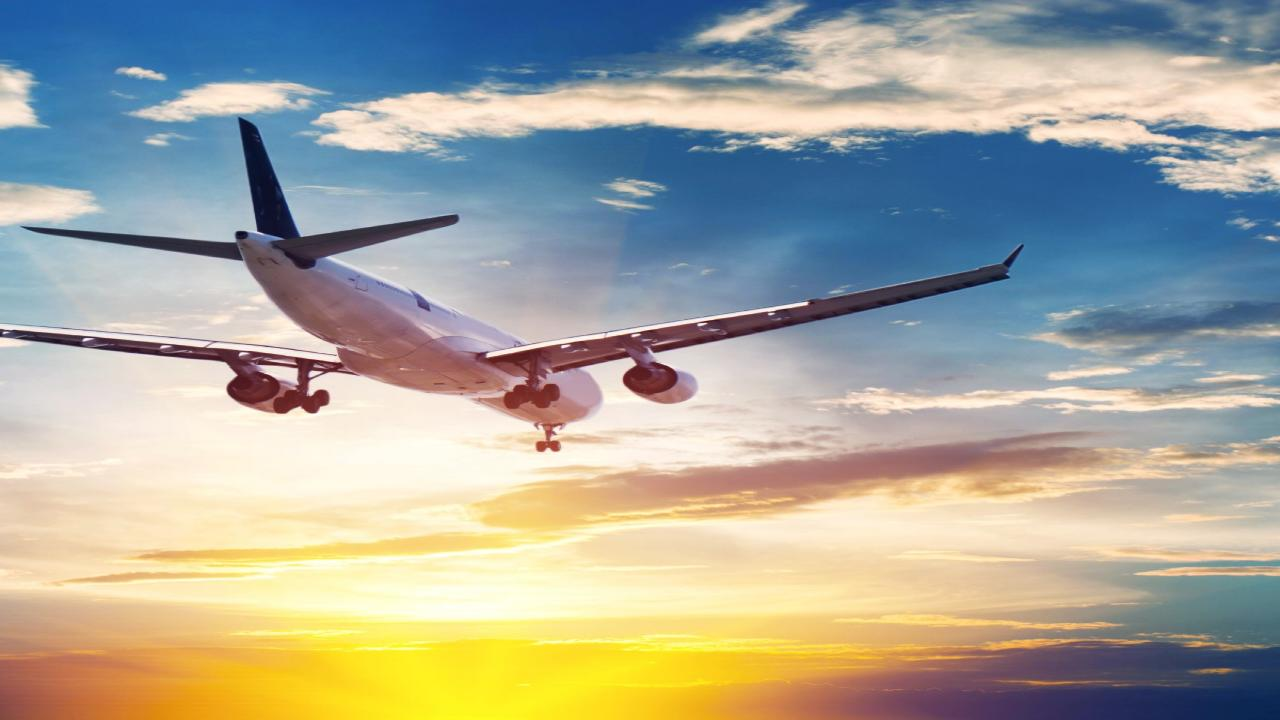Airplane: (0, 107, 1039, 470)
